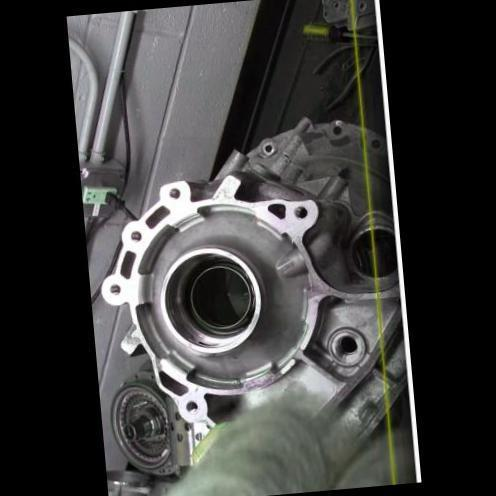hole: (292, 202, 308, 219), (183, 398, 200, 414), (106, 280, 121, 297), (168, 186, 183, 200), (127, 228, 141, 242)
